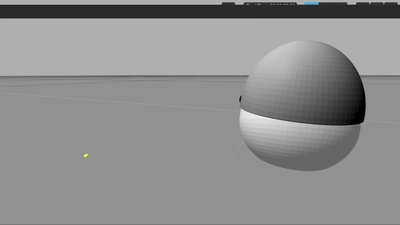mira_robot: (238, 40, 367, 171)
